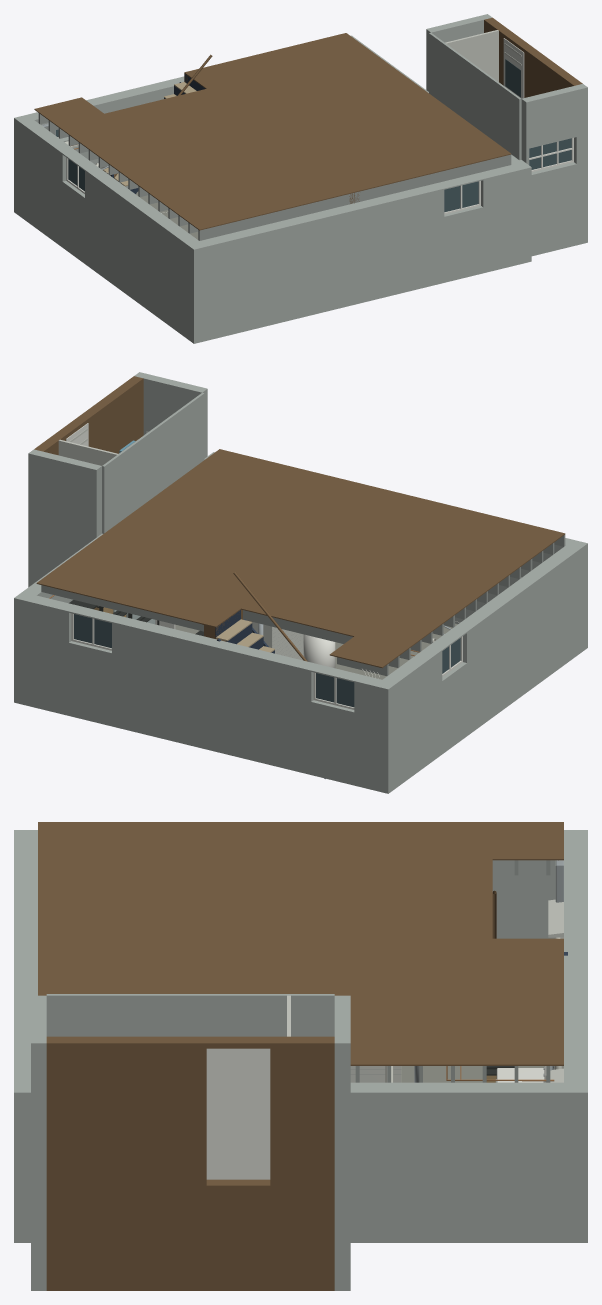
3 views of the same model, one above another, from view 1: azimuth 30°, elevation 25°; view 2: azimuth 150°, elevation 25°; view 3: azimuth 270°, elevation 25° (orthographic). The views are drawn at different scales.
Visible parts, largest first — view 1: Foundation north/0/0.001, Main beam.001, Joist/0/0.001, Bulkhead far wall/0/0.001, Window stairs/dark glass.001, Bulkhead stair cheek.002, Window stairs/jamb-1.001; view 2: Foundation north/0/0.001, Main beam.001, Bulkhead far wall/0/0.001, Joist/0/0.001, Window stairs/dark glass.001, Window stairs/jamb-1.001, Bulkhead stair cheek.002, Existing slab.001, Kitchen stairs/Riser 01.001, Kitchen stairs/Tread 01.001; view 3: Main beam.001, Foundation north/0/0.001, Bulkhead far wall/0/0.001, Window stairs/jamb-1.001, Bulkhead stair cheek.002, Existing slab.001, Joist/0/0.001.
Part boxes in pixels (x1,y1,x2,y2): Foundation north/0/0.001: [14, 14, 587, 343]; Main beam.001: [34, 33, 511, 230]; Joist/0/0.001: [38, 113, 511, 240]; Bulkhead far wall/0/0.001: [114, 17, 582, 177]; Window stairs/dark glass.001: [56, 59, 571, 212]; Bulkhead stair cheek.002: [65, 30, 521, 147]; Window stairs/jamb-1.001: [58, 38, 573, 214]; Foundation north/0/0.001: [14, 372, 587, 793]; Main beam.001: [36, 449, 565, 668]; Bulkhead far wall/0/0.001: [34, 376, 307, 661]; Joist/0/0.001: [41, 534, 565, 675]; Window stairs/dark glass.001: [74, 614, 460, 707]; Window stairs/jamb-1.001: [66, 423, 462, 709]; Bulkhead stair cheek.002: [58, 428, 303, 660]; Existing slab.001: [175, 623, 457, 679]; Kitchen stairs/Riser 01.001: [215, 610, 325, 778]; Kitchen stairs/Tread 01.001: [216, 619, 274, 652]; Main beam.001: [38, 822, 563, 1065]; Foundation north/0/0.001: [14, 830, 587, 1290]; Bulkhead far wall/0/0.001: [46, 890, 563, 1290]; Window stairs/jamb-1.001: [206, 937, 563, 1179]; Bulkhead stair cheek.002: [287, 899, 563, 1082]; Existing slab.001: [401, 1066, 563, 1082]; Joist/0/0.001: [355, 860, 550, 1082].
Size of the model in its own units: 9.4 by 3.64 by 7.34.
